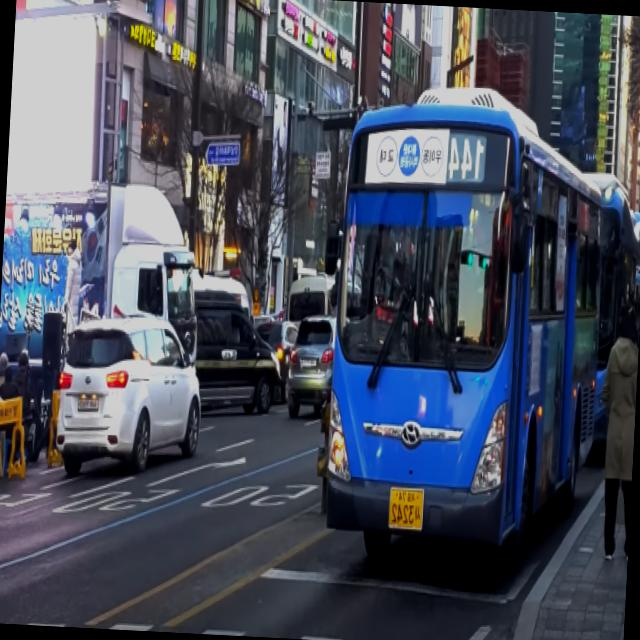bus-number: (447, 134, 486, 184)
